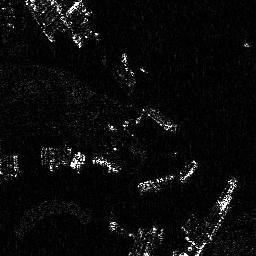ship: (142, 102, 177, 133), (216, 175, 238, 209), (179, 159, 197, 182)
